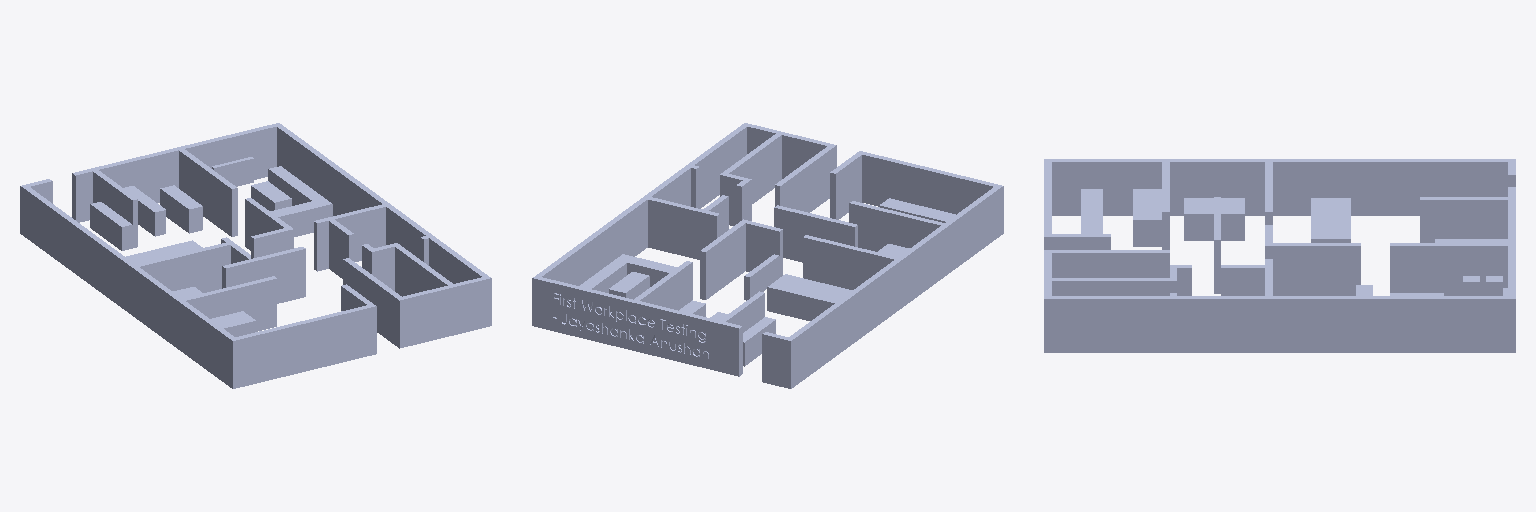
robot.urdf — Assem1:
<?xml version="1.0" encoding="utf-8"?>
<!-- This URDF was automatically created by SolidWorks to URDF Exporter! Originally created by Stephen Brawner ([email redacted]) 
     Commit Version: 1.6.0-4-g7f85cfe  Build Version: 1.6.7995.38578
     For more information, please see http://wiki.ros.org/sw_urdf_exporter -->
<robot
  name="Assem1">
  <link
    name="base_link">
    <inertial>
      <origin
        xyz="-0.326956307826122 -0.159906420198384 0.126425962025181"
        rpy="0 0 0" />
      <mass
        value="67711.7012342274" />
      <inertia
        ixx="1236706.03063841"
        ixy="19.307181842411"
        ixz="-221828.769744981"
        iyy="1452110.92357208"
        iyz="36.4817440714181"
        izz="249463.319315194" />
    </inertial>
    <visual>
      <origin
        xyz="0 0 0"
        rpy="0 0 0" />
      <geometry>
        <mesh
          filename="package://lidar_scanning_robot/worlds/first_work_place/meshes/base_link.STL" />
      </geometry>
      <material
        name="">
        <color
          rgba="0.792156862745098 0.819607843137255 0.933333333333333 1" />
      </material>
    </visual>
    <collision>
      <origin
        xyz="0 0 0"
        rpy="0 0 0" />
      <geometry>
        <mesh
          filename="package://lidar_scanning_robot/worlds/first_work_place/meshes/base_link.STL" />
      </geometry>
    </collision>
  </link>
</robot>

--- Facts derived from the render (not from the file) ---
3 views of the same robot in one strip: view 1: azimuth 30°, elevation 25°; view 2: azimuth 150°, elevation 25°; view 3: azimuth 270°, elevation 25° (orthographic).
Robot: Assem1 — 1 links, 0 joints (none); root link base_link; default pose: every joint at zero.
Visible links, largest first — view 1: base_link; view 2: base_link; view 3: base_link.
Boxes of the visible links, x1,y1,x2,y2 form: base_link: (20,123,491,388); base_link: (532,123,1003,388); base_link: (1044,159,1515,352).
Bounding box of the posed robot: 11.25 × 16 × 2 m (x, y, z).
1 mesh visuals loaded from 1 distinct referenced files (1 binary STL).
